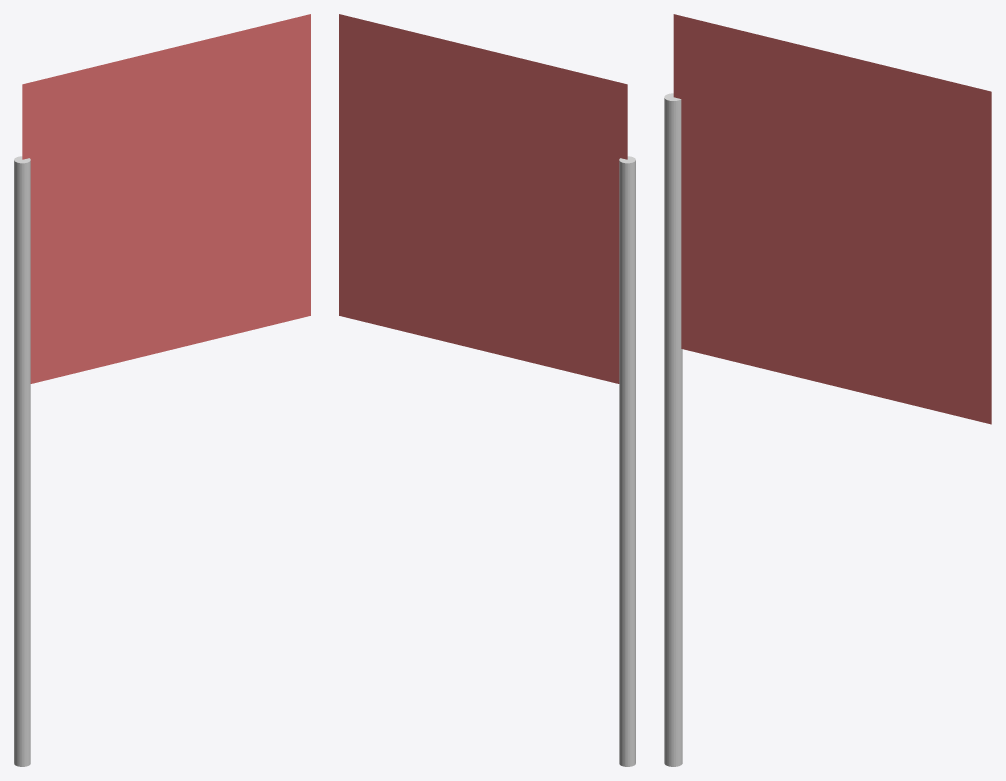
Rendered from flag.glb.
3 views of the same model, side by side, from view 1: azimuth 30°, elevation 25°; view 2: azimuth 150°, elevation 25°; view 3: azimuth 330°, elevation 25° (orthographic). The views are drawn at different scales.
Parts seen in each view (by area): view 1: FlagCloth, FlagPole; view 2: FlagCloth, FlagPole; view 3: FlagCloth, FlagPole.
Boxes of the visible parts, x1=… form: FlagCloth: x1=22, y1=14, x2=310, y2=383; FlagPole: x1=14, y1=156, x2=30, y2=766; FlagCloth: x1=339, y1=14, x2=627, y2=383; FlagPole: x1=619, y1=156, x2=635, y2=766; FlagCloth: x1=673, y1=14, x2=991, y2=424; FlagPole: x1=664, y1=93, x2=682, y2=766.
Bounding box in the file's own units: 2.05 × 4.5 × 0.1.
